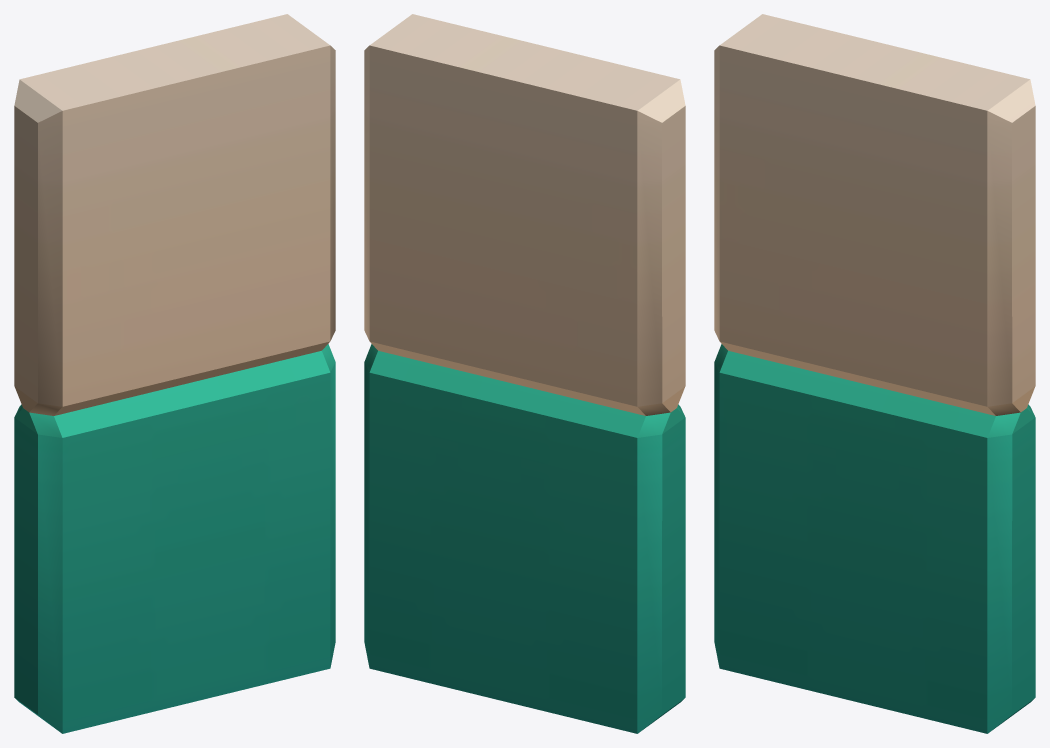
Rendered from kaykit-restaurant-bits-wall-half.glb.
3 views of the same model, side by side, from view 1: azimuth 30°, elevation 25°; view 2: azimuth 150°, elevation 25°; view 3: azimuth 330°, elevation 25° (orthographic).
Visible parts, largest first — view 1: wall_half; view 2: wall_half; view 3: wall_half.
Part boxes in pixels (x1,y1,x2,y2): wall_half: [14, 14, 335, 733]; wall_half: [364, 14, 685, 733]; wall_half: [714, 14, 1035, 733].
Size of the model in its own units: 2 by 4 by 0.5.
1 material, 1 textured.
